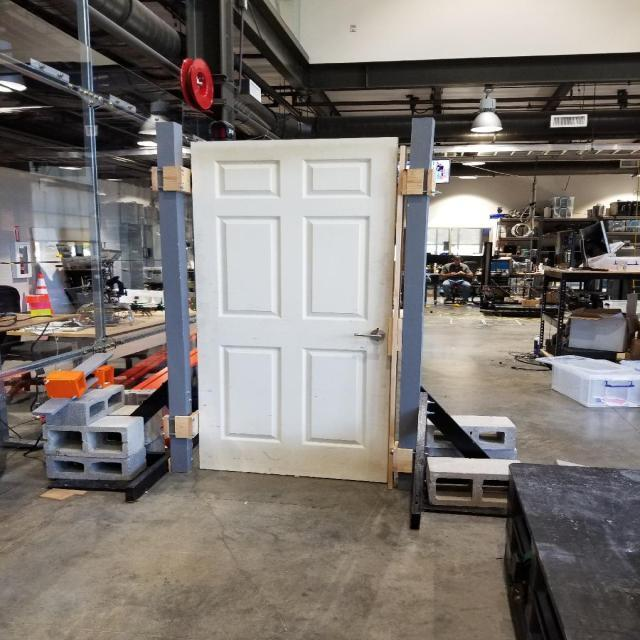door: (186, 134, 400, 486), (350, 325, 385, 344)
